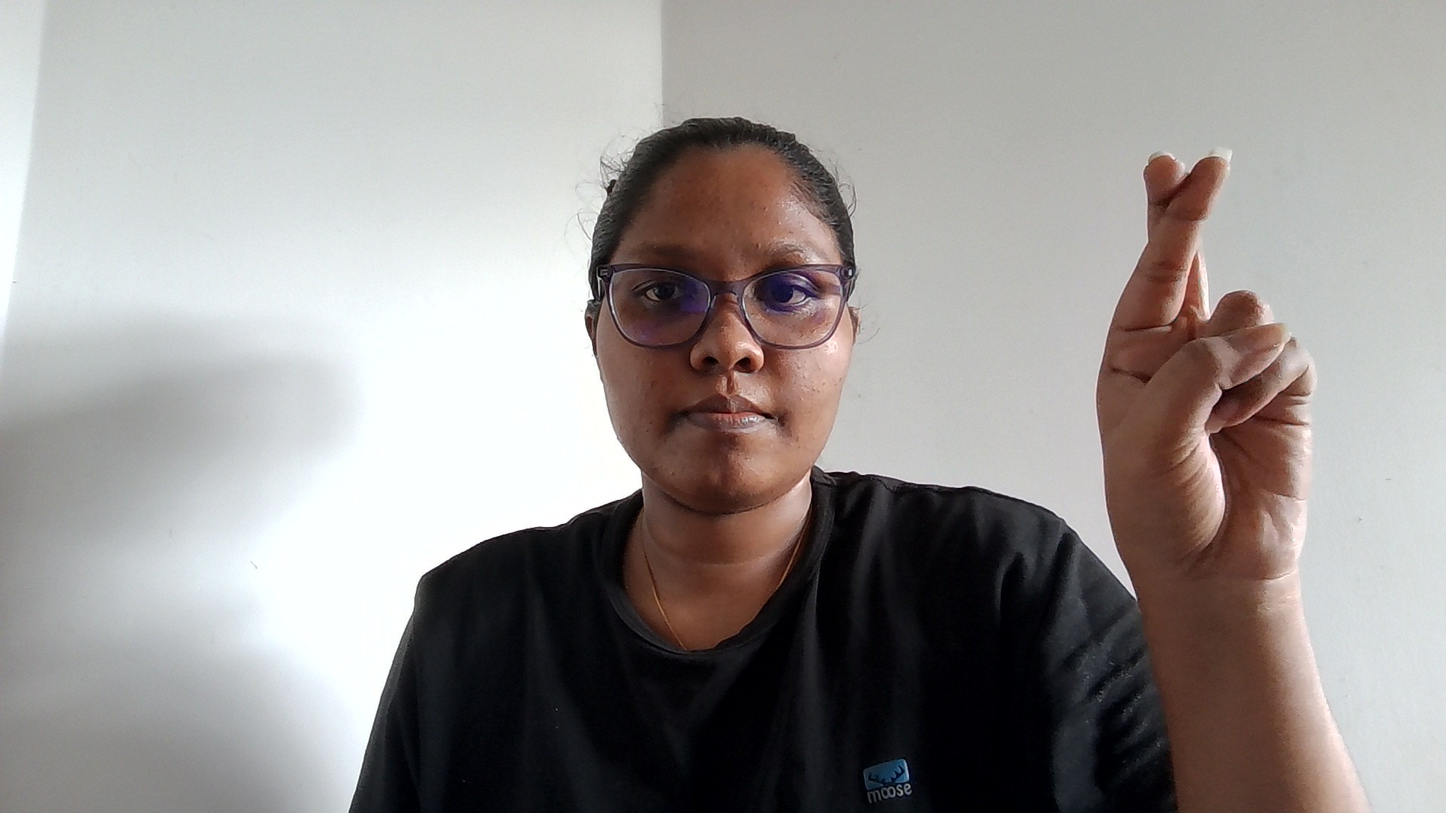Good_Luck: (1071, 77, 1372, 717)
